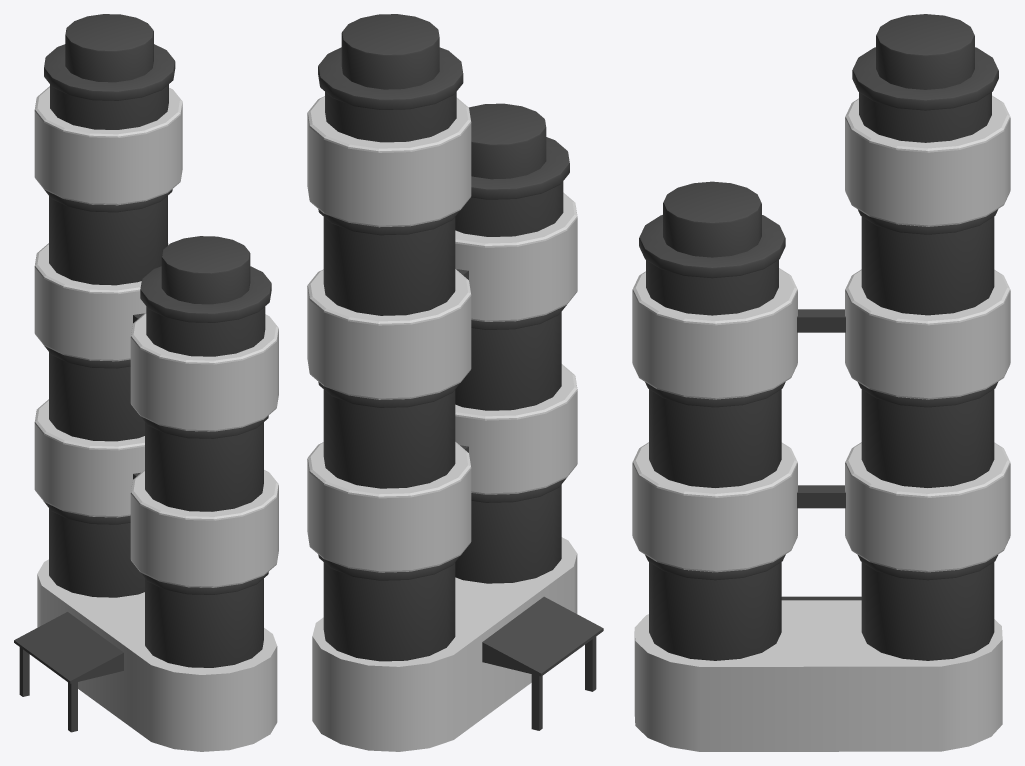
The model's file is house2.FBX.
3 renders of one model, left to right at view 1: azimuth 30°, elevation 25°; view 2: azimuth 150°, elevation 25°; view 3: azimuth 270°, elevation 25°, orthographic. The views are drawn at different scales.
Parts seen in each view (by area): view 1: Cylinder001, Cylinder017, Cylinder018, Cylinder013, Cylinder014, Cylinder007, Cylinder016, Cylinder012, Cylinder006, Cylinder003, Cylinder005, Cylinder002 (+4 smaller); view 2: Cylinder001, Cylinder018, Cylinder007, Cylinder005, Cylinder003, Cylinder017, Cylinder004, Cylinder002, Cylinder006, Cylinder013, Cylinder014, Cylinder016 (+4 smaller); view 3: Cylinder001, Cylinder017, Cylinder018, Cylinder005, Cylinder013, Cylinder003, Cylinder007, Cylinder014, Cylinder004, Cylinder002, Cylinder006, Cylinder016 (+3 smaller).
Part boxes in pixels (x1,y1,x2,y2): Cylinder001: [37, 559, 277, 751]; Cylinder017: [140, 236, 271, 356]; Cylinder018: [44, 14, 175, 129]; Cylinder013: [130, 470, 278, 587]; Cylinder014: [130, 313, 278, 431]; Cylinder007: [34, 86, 182, 205]; Cylinder016: [140, 572, 268, 667]; Cylinder012: [139, 415, 268, 511]; Cylinder006: [44, 189, 172, 285]; Cylinder003: [34, 399, 144, 517]; Cylinder005: [34, 243, 169, 361]; Cylinder002: [43, 501, 144, 597]; Cylinder001: [312, 537, 577, 751]; Cylinder018: [318, 14, 463, 142]; Cylinder007: [307, 96, 471, 227]; Cylinder005: [307, 269, 471, 399]; Cylinder003: [307, 442, 471, 572]; Cylinder017: [455, 103, 569, 236]; Cylinder004: [318, 382, 459, 488]; Cylinder002: [318, 554, 459, 661]; Cylinder006: [318, 209, 460, 315]; Cylinder013: [455, 364, 577, 494]; Cylinder014: [455, 192, 577, 321]; Cylinder016: [455, 478, 566, 583]; Cylinder001: [634, 600, 1002, 751]; Cylinder017: [639, 181, 785, 315]; Cylinder018: [852, 14, 998, 142]; Cylinder005: [845, 269, 1010, 399]; Cylinder013: [632, 442, 797, 572]; Cylinder003: [845, 442, 1010, 572]; Cylinder007: [845, 95, 1010, 226]; Cylinder014: [632, 268, 797, 399]; Cylinder004: [858, 382, 997, 487]; Cylinder002: [858, 555, 997, 660]; Cylinder006: [858, 209, 998, 315]; Cylinder016: [645, 554, 785, 660].
Bounding box in the file's own units: 352 × 1152 × 576.
